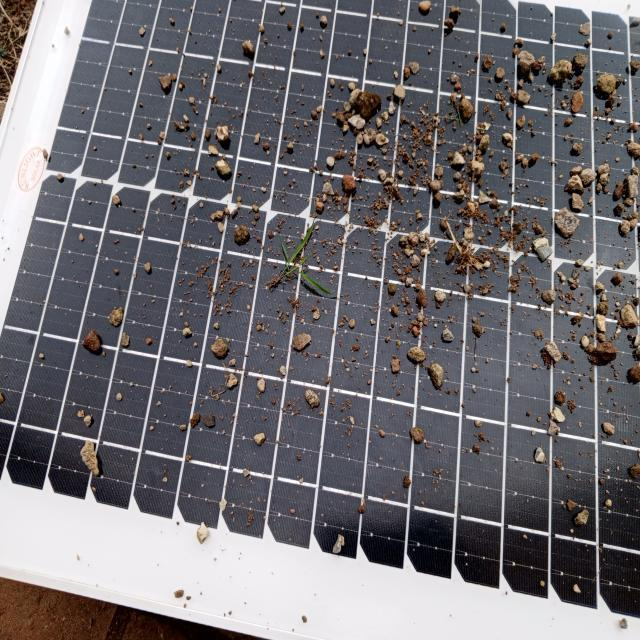Surface Contaminant: (52, 5, 639, 575)
